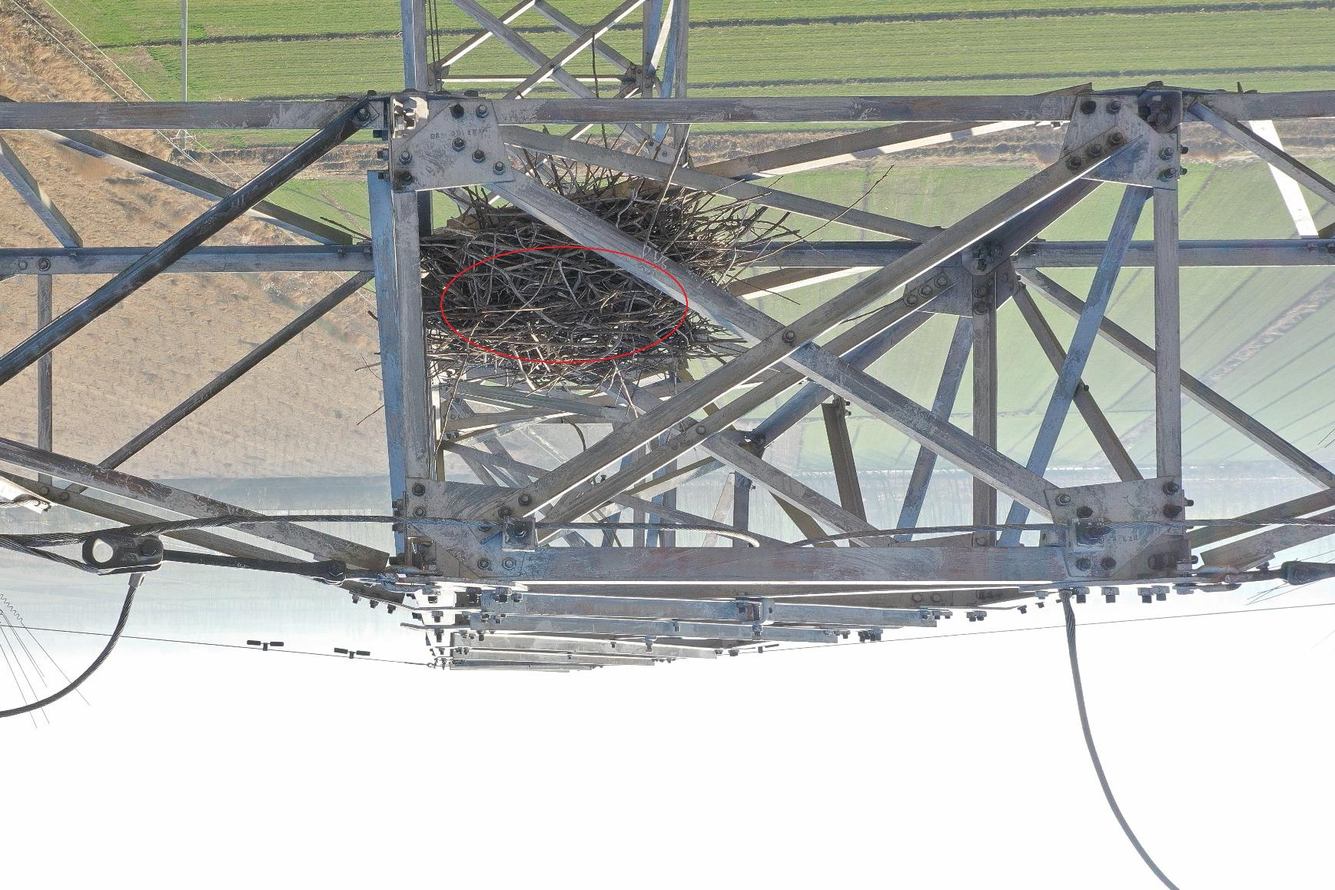damper: (241, 638, 287, 655), (330, 645, 374, 662)
nest: (413, 162, 785, 393)
